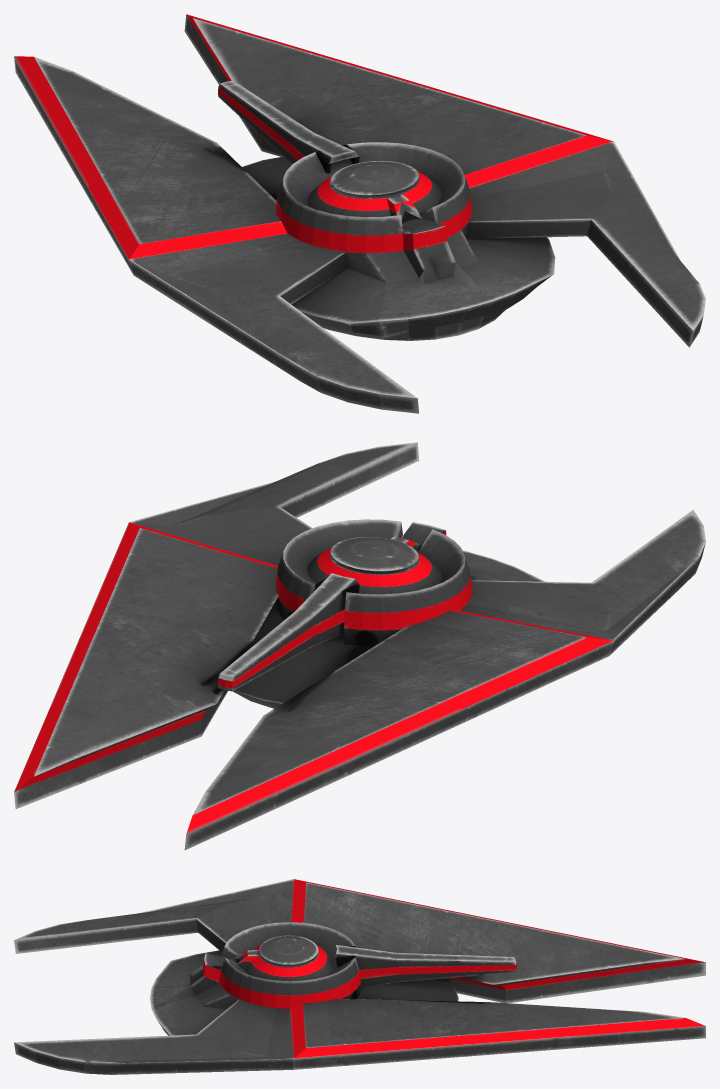
File: spaceship4.fbx
3 renders of one model, top to bottom at view 1: azimuth 30°, elevation 25°; view 2: azimuth 150°, elevation 25°; view 3: azimuth 270°, elevation 25°, orthographic. The views are drawn at different scales.
Visible parts, largest first — view 1: nave_inimiga 3; view 2: nave_inimiga 3; view 3: nave_inimiga 3.
Boxes of the visible parts, x1,y1,x2,y2 form: nave_inimiga 3: [14, 14, 705, 413]; nave_inimiga 3: [14, 442, 705, 850]; nave_inimiga 3: [14, 879, 705, 1074].
Size of the model in its own units: 1753 by 362 by 2851.
1 material, 1 textured.
